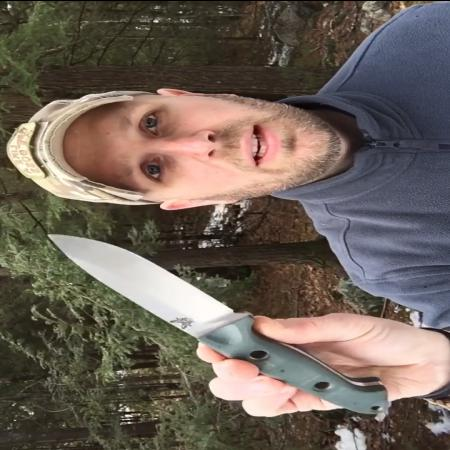long weapon: (41, 230, 332, 382)
